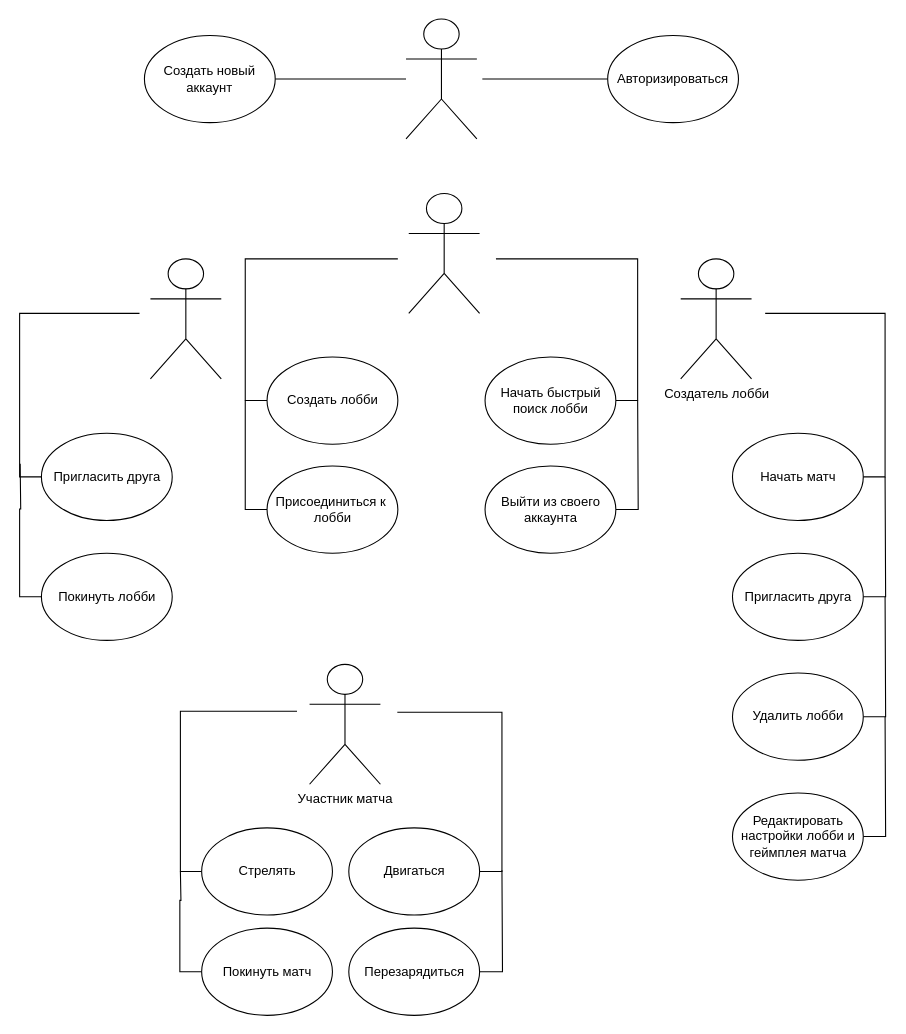
This 906x1034 diagram has some shape labels left out. Here are the shapes that lost their labels. From the top down, the box of each, then its label:
(405, 18, 477, 139): Гость
(408, 192, 480, 313): Пользователь
(149, 258, 221, 379): Участник лобби
